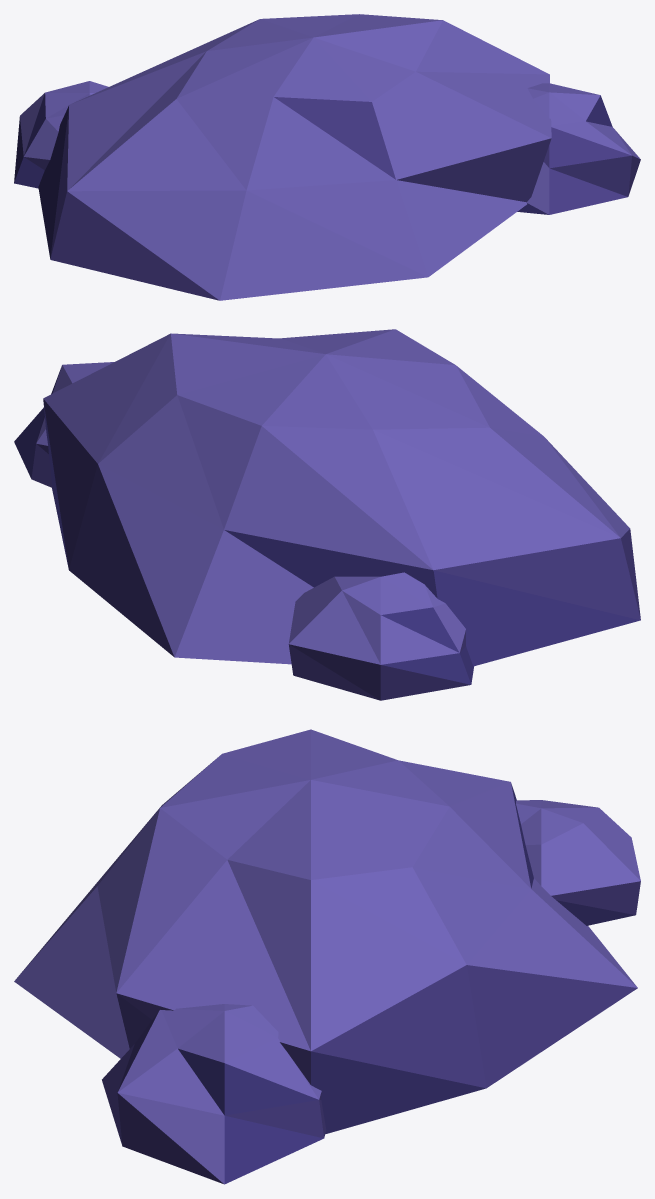
File: Mine_Rock_Boulder_A.obj
The picture shows the model from 3 angles, top to bottom: view 1: azimuth 30°, elevation 25°; view 2: azimuth 150°, elevation 25°; view 3: azimuth 270°, elevation 25°; orthographic projection. The views are drawn at different scales.
Parts seen in each view (by area): view 1: Mine_Rock_Boulder_A; view 2: Mine_Rock_Boulder_A; view 3: Mine_Rock_Boulder_A.
Boxes of the visible parts, x1,y1,x2,y2 form: Mine_Rock_Boulder_A: (14, 14, 640, 300); Mine_Rock_Boulder_A: (14, 329, 640, 700); Mine_Rock_Boulder_A: (14, 729, 640, 1184).
Size of the model in its own units: 3.47 by 1.01 by 2.61.
